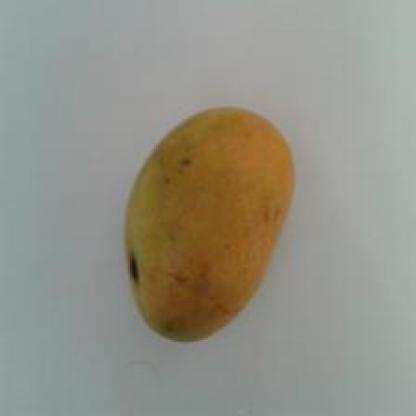mango: (118, 106, 298, 344)
